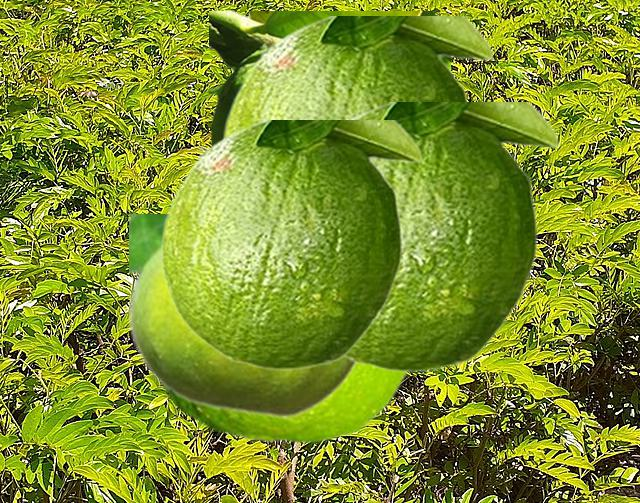dalandan: (160, 120, 422, 369), (342, 102, 559, 371), (129, 214, 358, 418), (221, 16, 493, 137), (209, 11, 449, 144), (157, 366, 411, 442)
